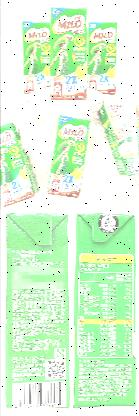Others: (3, 213, 70, 409), (73, 213, 136, 408), (46, 115, 89, 198), (49, 7, 87, 100), (0, 123, 37, 207), (99, 104, 139, 176), (20, 21, 50, 94), (88, 22, 117, 94)
